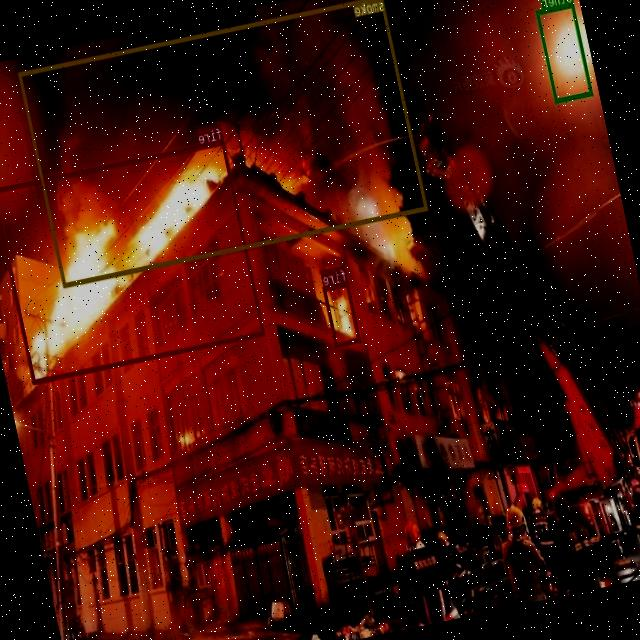fire: (0, 138, 265, 383), (322, 281, 362, 346)
smoke: (18, 0, 429, 287)
